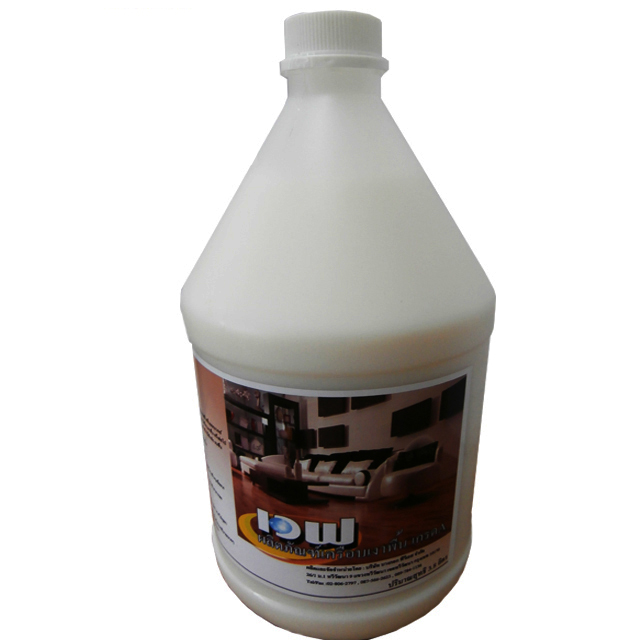Cleaning_solution: (174, 7, 502, 640)
